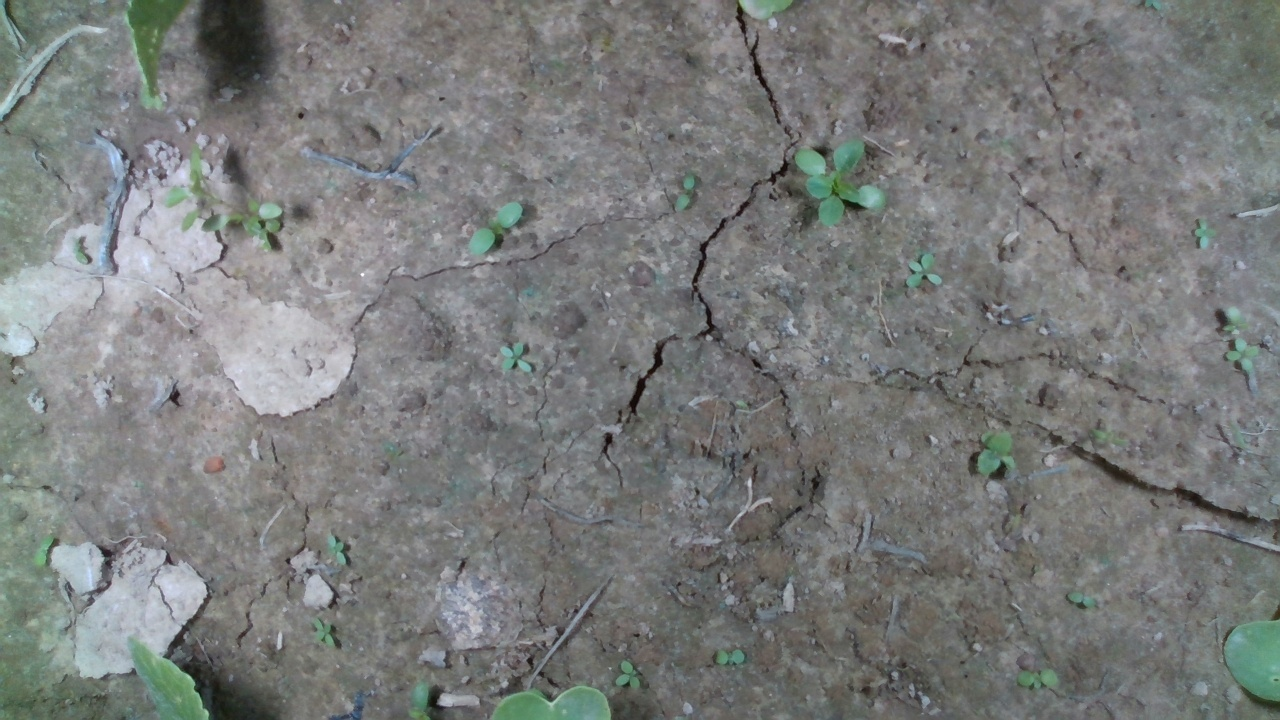weed: (466, 201, 523, 255), (905, 252, 943, 289), (1223, 336, 1261, 370), (497, 341, 533, 374), (1016, 667, 1059, 690), (674, 172, 695, 214), (310, 616, 336, 649), (614, 661, 641, 692), (326, 532, 348, 566), (1193, 218, 1216, 250), (34, 534, 54, 567), (1065, 591, 1095, 609), (713, 649, 745, 665)
